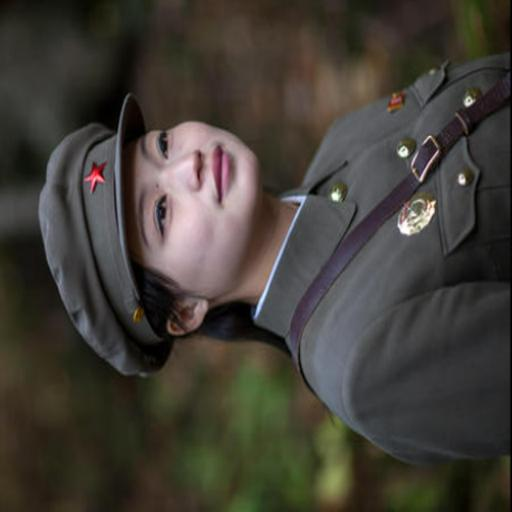north army: (21, 49, 512, 419)
